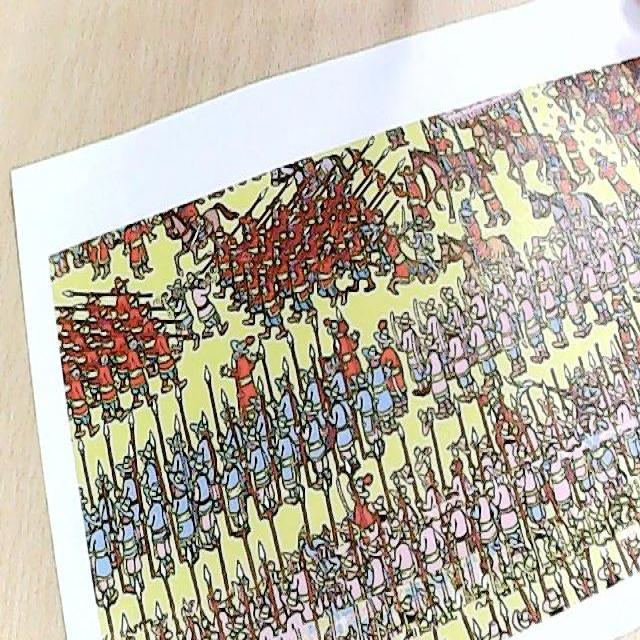waldo: (320, 357, 335, 375)
